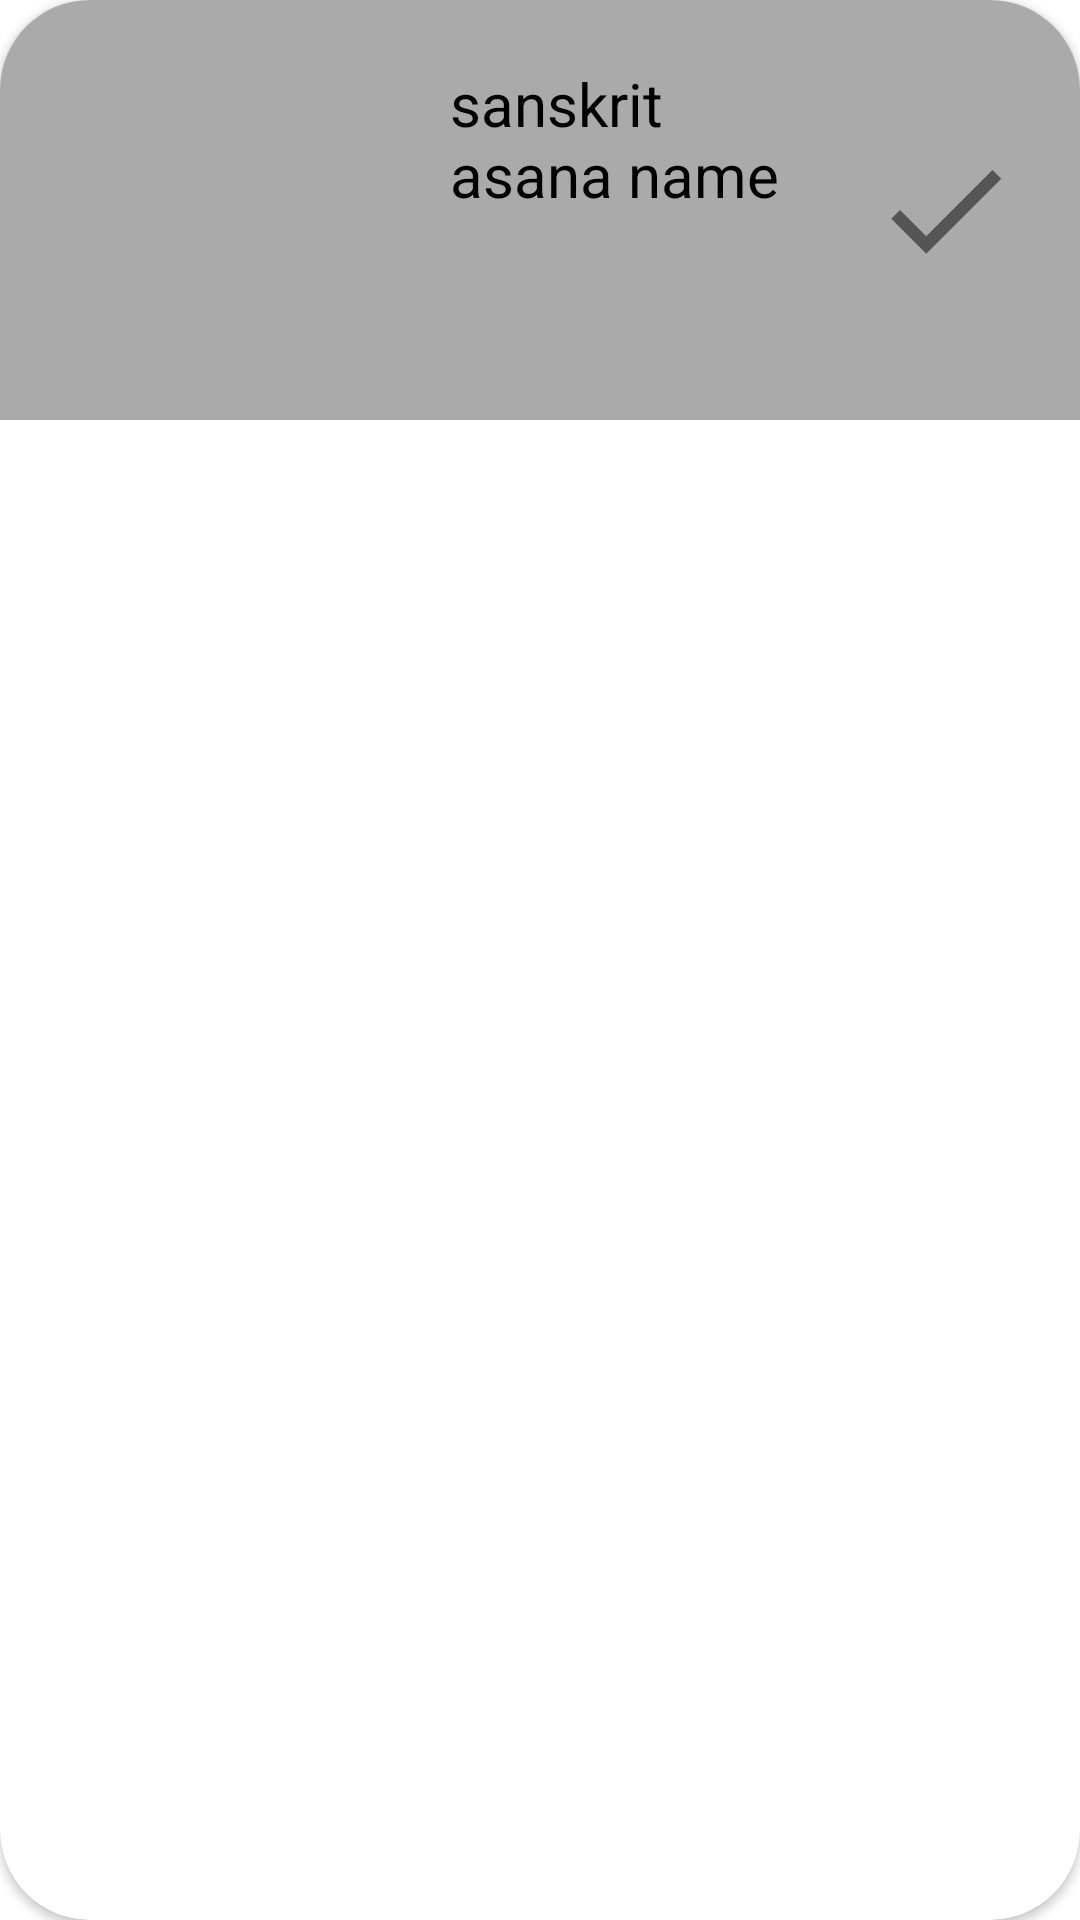

Screen size 1080×1920. Icon name, then its center in pixels as (x,y):
done: (946,212)
